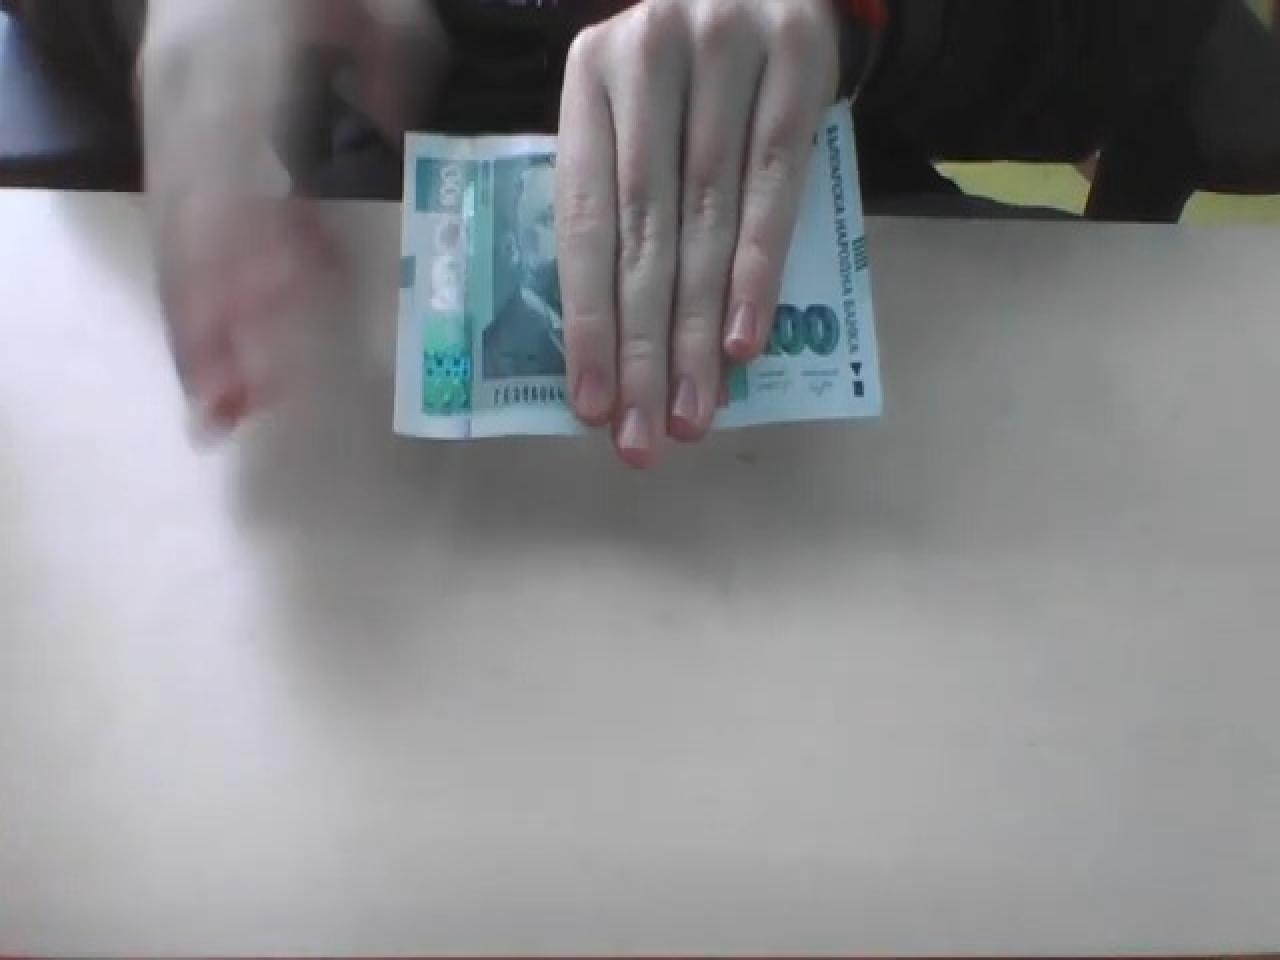100leva: (390, 101, 882, 443)
